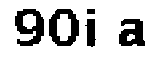0: (47, 7, 81, 53)
9: (9, 6, 46, 49)
a: (116, 16, 148, 56)
i: (84, 6, 103, 51)
